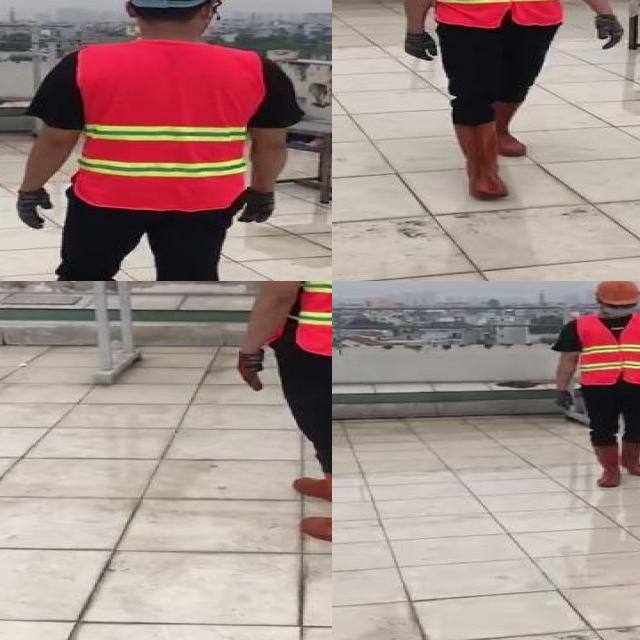boots: (451, 123, 512, 202), (295, 465, 332, 550), (490, 98, 528, 157), (592, 443, 622, 487), (618, 440, 640, 476)
glasses: (600, 300, 640, 310)
hand_glove: (14, 189, 57, 230), (235, 190, 277, 223), (237, 350, 269, 391), (594, 12, 626, 50), (403, 33, 442, 62), (556, 388, 574, 411)
head_helmet: (592, 281, 640, 300)
person: (0, 0, 311, 281), (388, 0, 634, 210), (225, 281, 332, 555), (543, 281, 640, 489)
vest: (73, 39, 265, 211), (575, 312, 640, 387), (430, 0, 565, 28)
